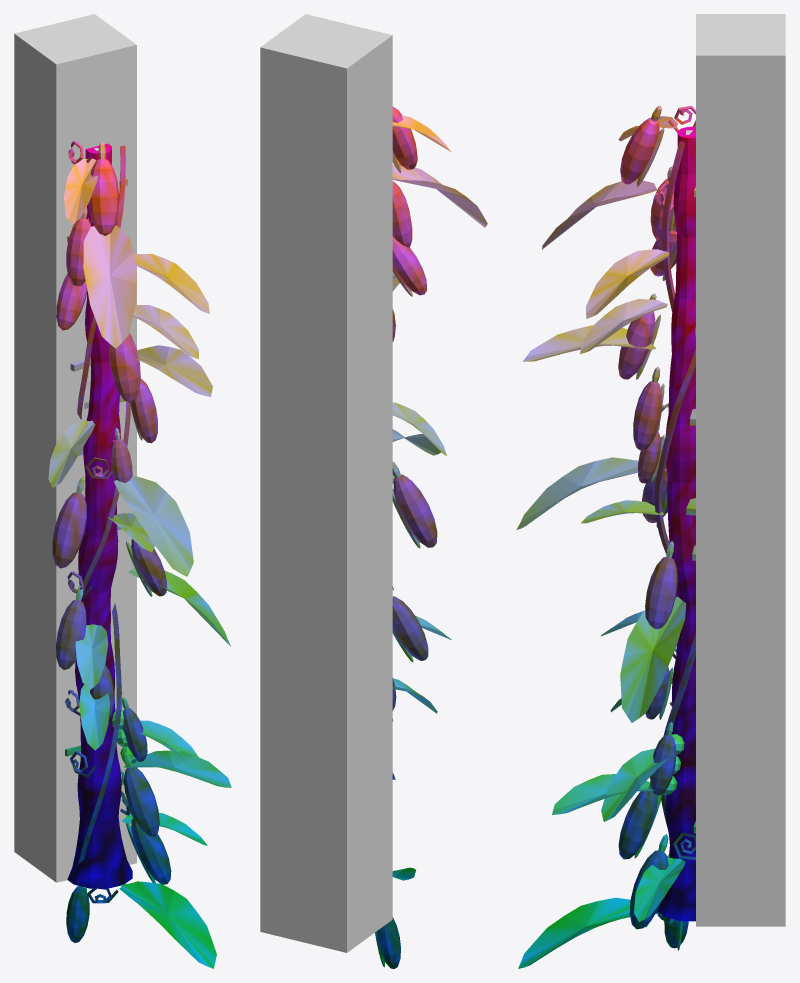
The model's file is Plant_Ladder_02.fbx.
The picture shows the model from 3 angles, left to right: view 1: azimuth 30°, elevation 25°; view 2: azimuth 150°, elevation 25°; view 3: azimuth 270°, elevation 25°; orthographic projection. The views are drawn at different scales.
Visible parts, largest first — view 1: Plant_Ladder_02, CLIMB_0; view 2: CLIMB_0, Plant_Ladder_02; view 3: CLIMB_0, Plant_Ladder_02.
Boxes of the visible parts, x1,y1,x2,y2 form: Plant_Ladder_02: [48, 141, 231, 968]; CLIMB_0: [14, 14, 136, 882]; CLIMB_0: [260, 14, 392, 952]; Plant_Ladder_02: [375, 106, 487, 968]; CLIMB_0: [696, 14, 785, 926]; Plant_Ladder_02: [516, 105, 695, 968].
Bounding box in the file's own units: 2.36 × 11.42 × 3.
